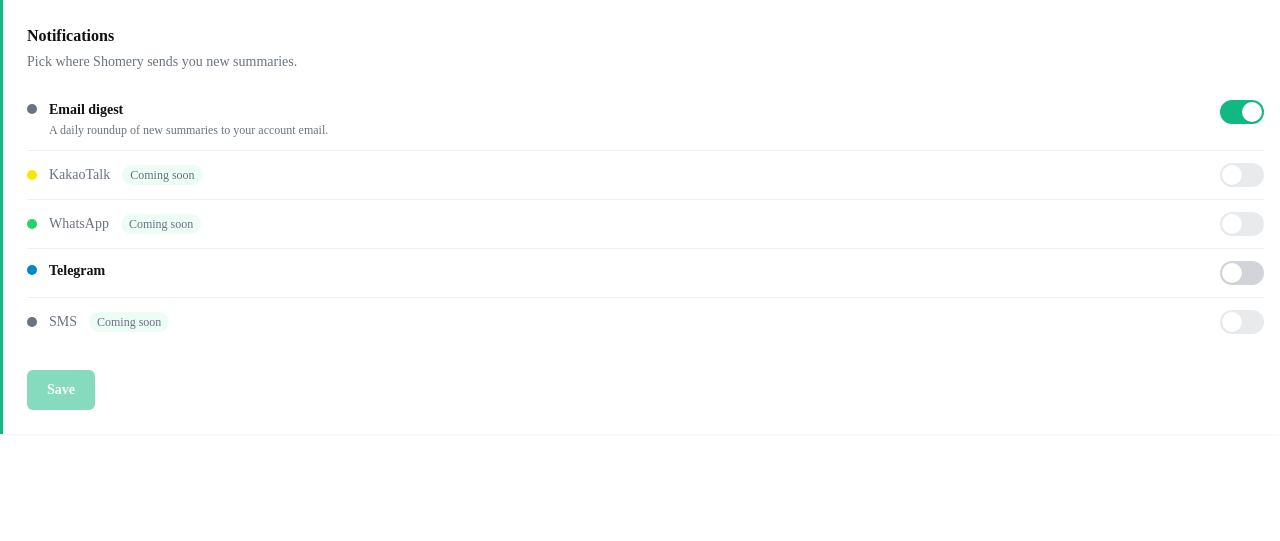
it: NotificationsEditor › blocks save and surfaces a hint when Telegram is on but chat id is empty
This screenshot has width=1280, height=541.
Click the switch named "Enable Telegram" at (1242, 273), box [1220,261,1264,285]
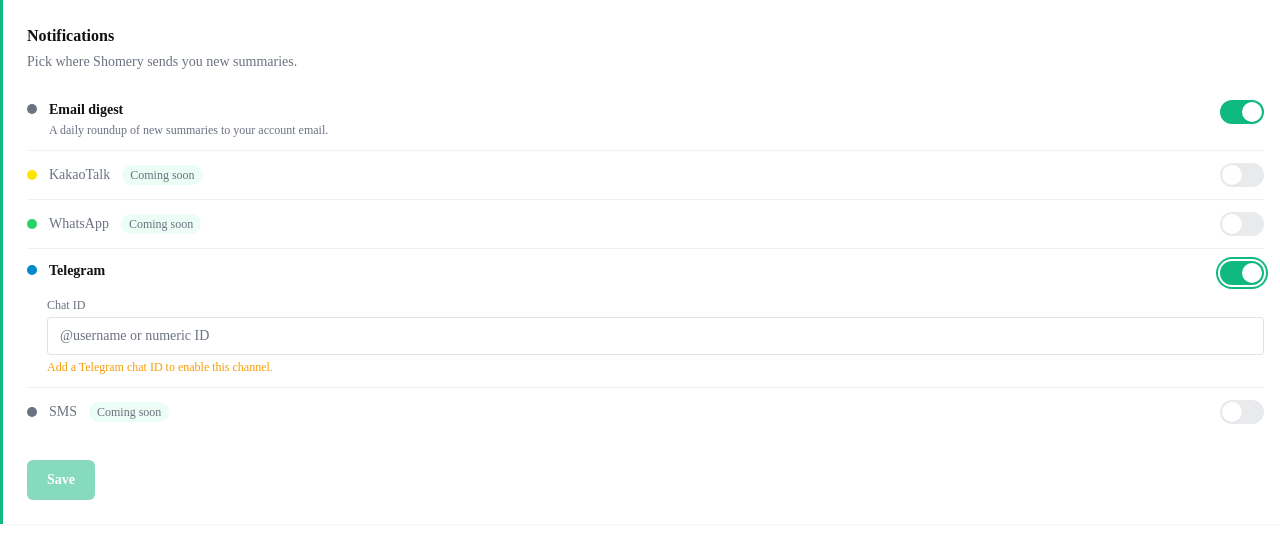
Expected: the button "Save" is disabled, [27,460,95,500]
Now the text "Add a Telegram chat ID to enable this channel." is shown, box [47,360,273,374]
